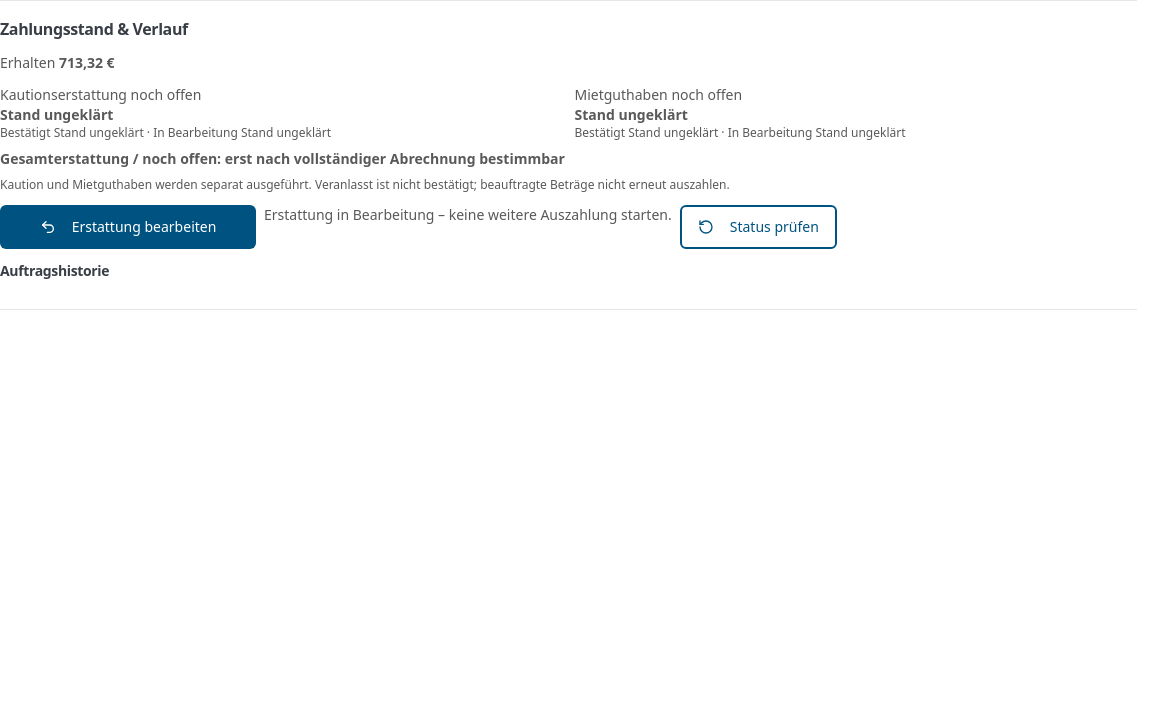
Test: pending bank rental claim remains inspectable but cannot issue a second available refund
The image size is (1152, 720).
Click the button "Erstattung bearbeiten" at (128, 227), box x1=0 y1=205 x2=256 y2=249
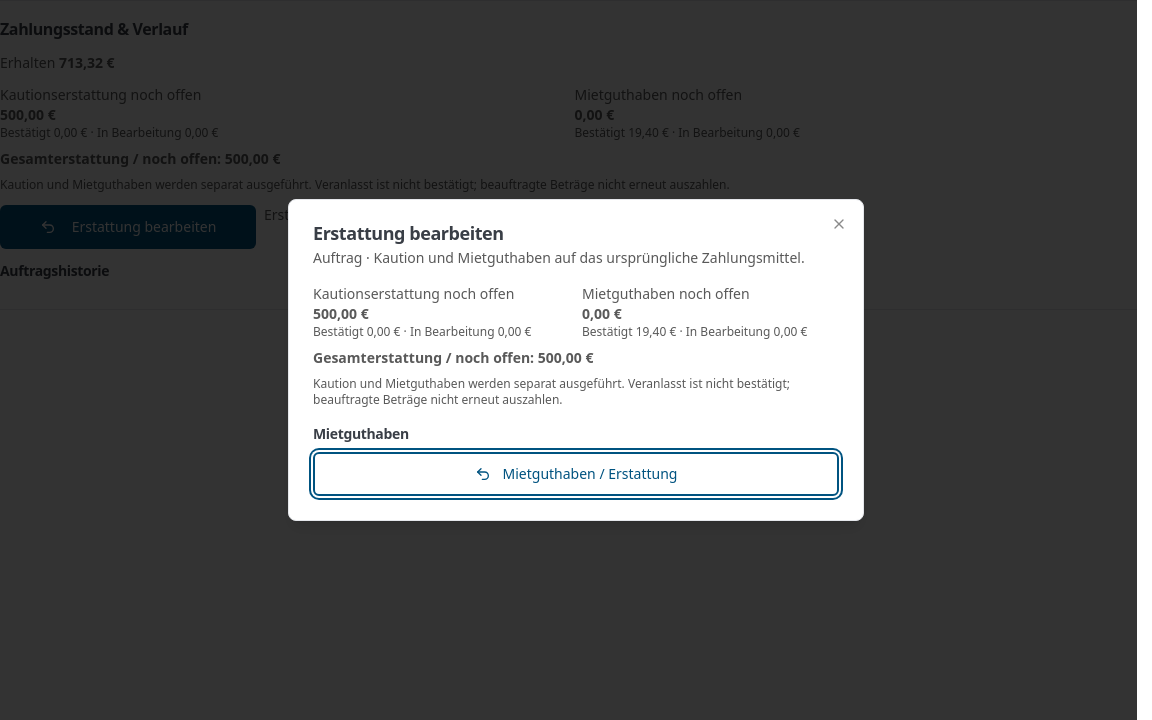
Click the button "Mietguthaben / Erstattung" at (576, 474), box x1=313 y1=452 x2=839 y2=496
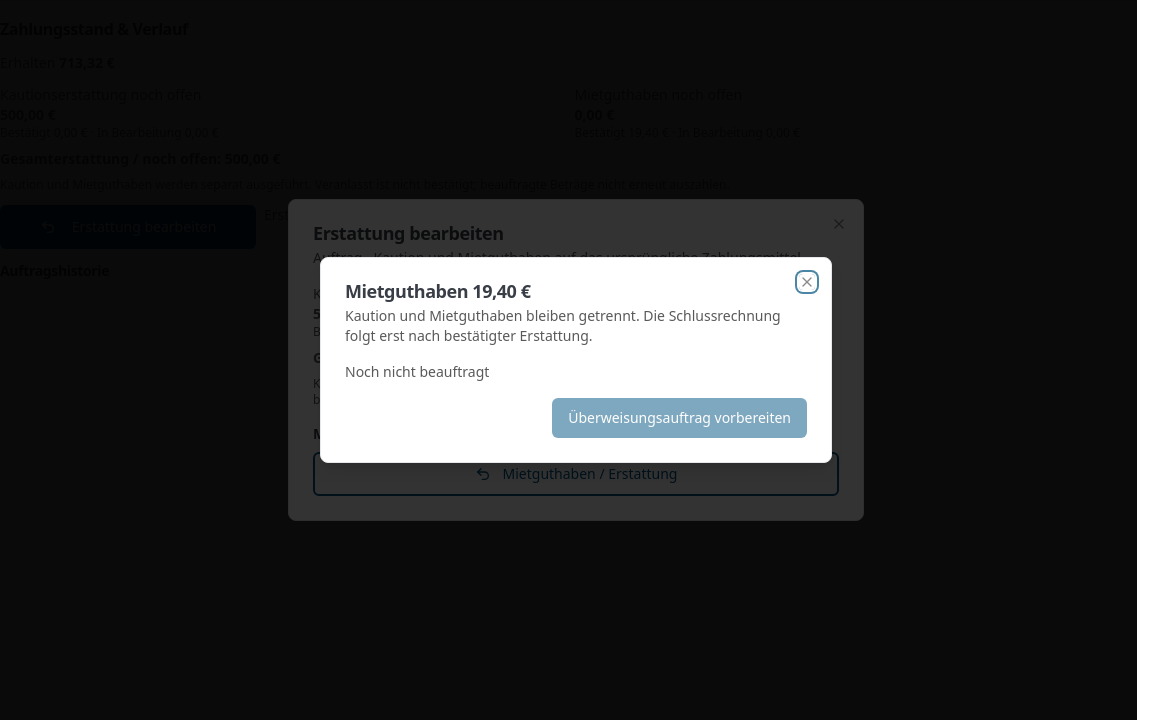
Expected: the button "Überweisungsauftrag vorbereiten" is disabled, x1=552 y1=398 x2=807 y2=438
